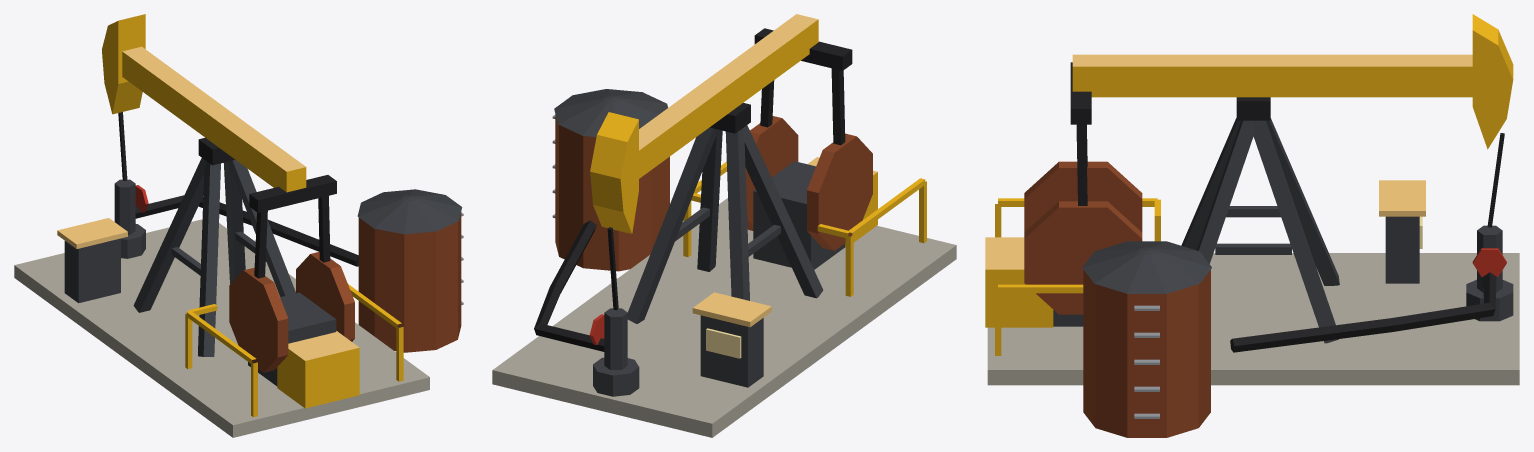
The model's file is oil_derrick.glb.
3 views of the same model, side by side, from view 1: azimuth 30°, elevation 25°; view 2: azimuth 150°, elevation 25°; view 3: azimuth 270°, elevation 25° (orthographic). The views are drawn at different scales.
Parts seen in each view (by area): view 1: oil_derrick, Beam; view 2: oil_derrick, Beam; view 3: oil_derrick, Beam.
Part boxes in pixels (x1,y1,x2,y2): oil_derrick: [14, 137, 463, 437]; Beam: [102, 14, 336, 212]; oil_derrick: [492, 68, 956, 437]; Beam: [590, 14, 852, 310]; oil_derrick: [985, 97, 1519, 437]; Beam: [1070, 14, 1513, 227].
Bounding box in the file's own units: 1.92 × 1.58 × 2.51.
